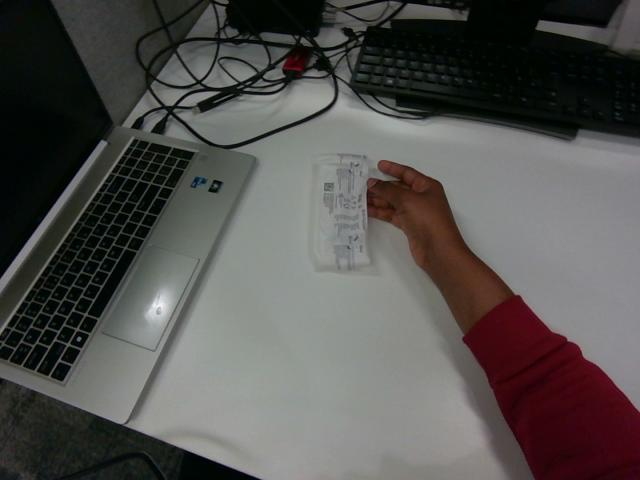syringe: (310, 154, 370, 271)
